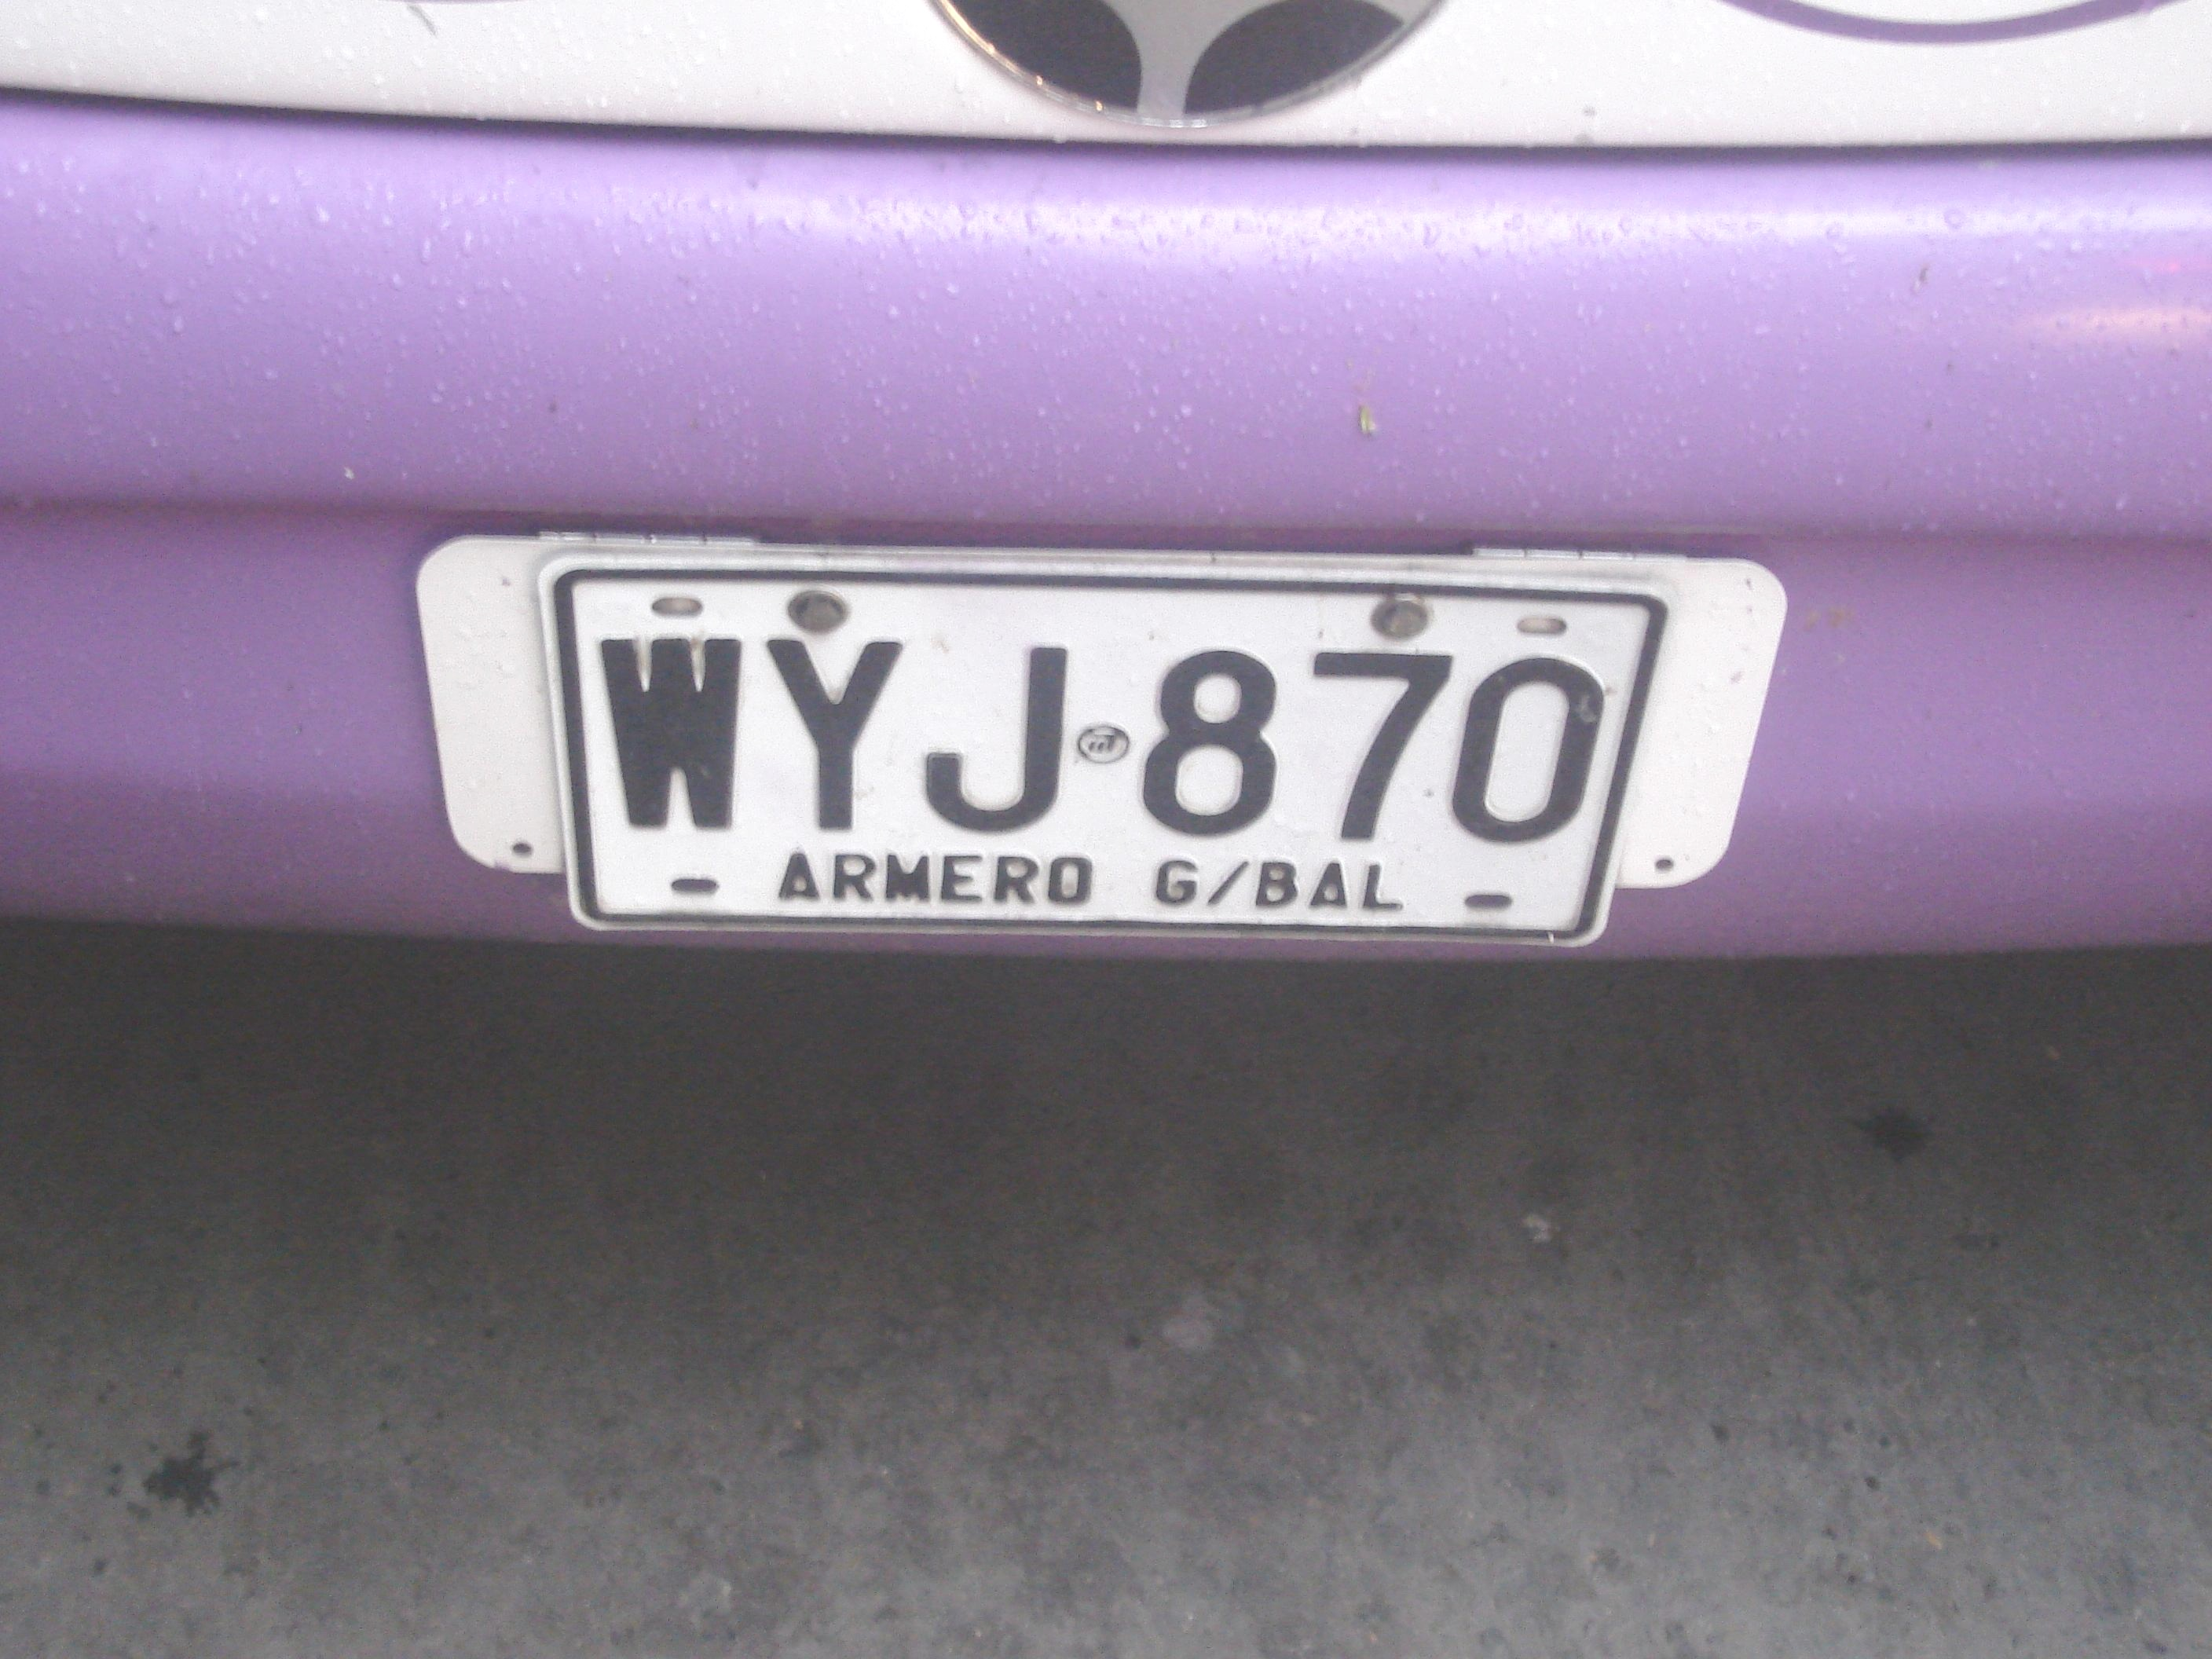placas: (523, 541, 1683, 957)
